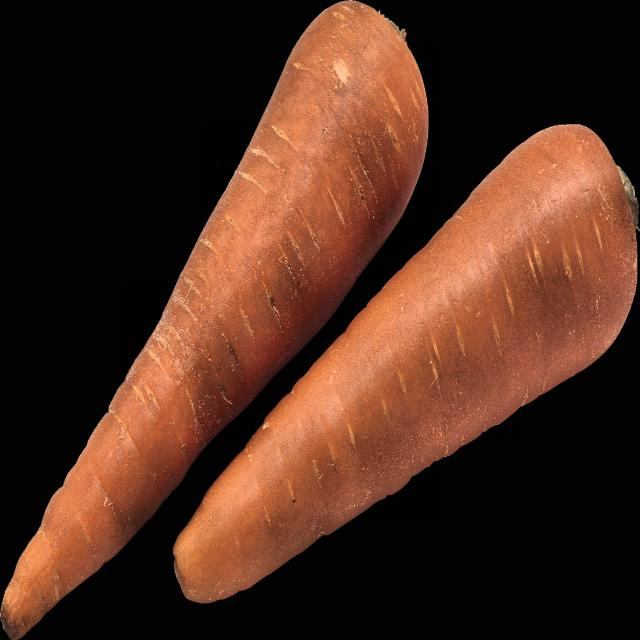carrot: (8, 8, 635, 630)
